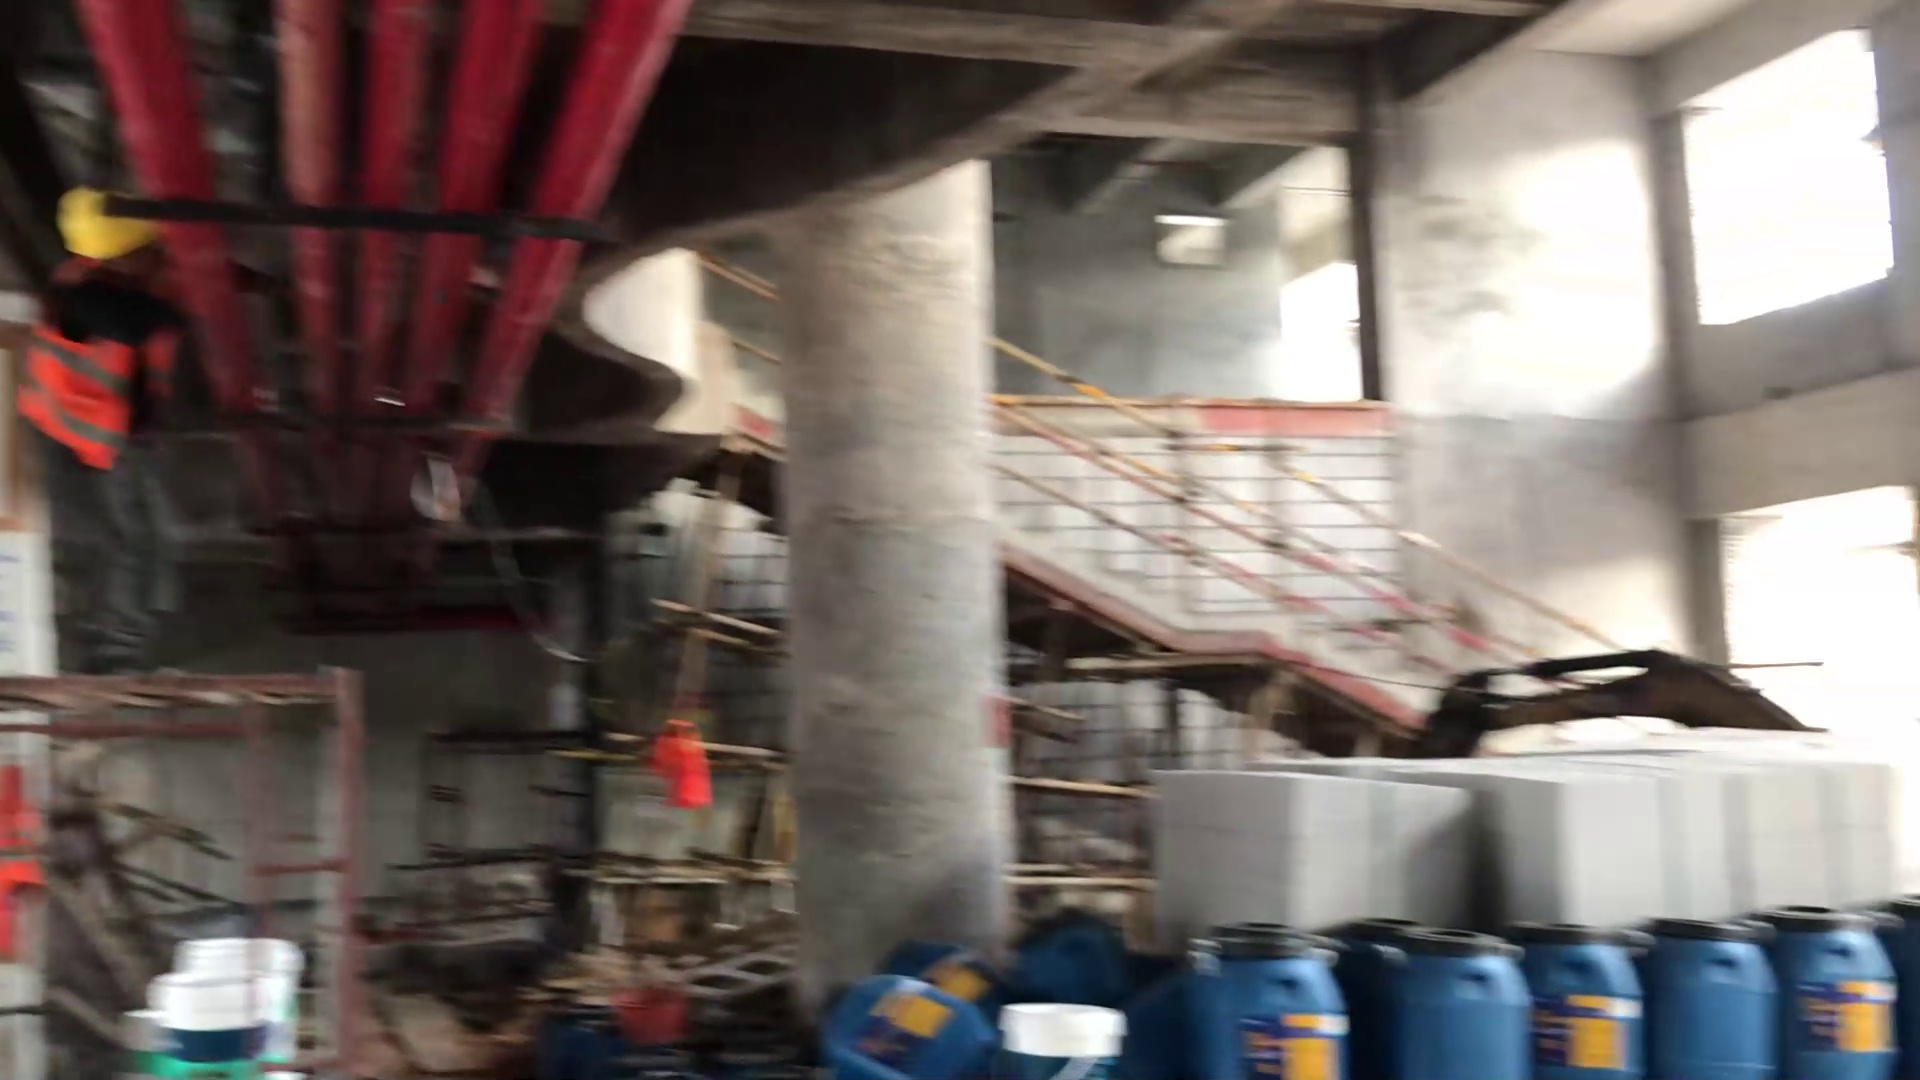helmet: (58, 193, 163, 271)
person: (23, 190, 195, 567)
vest: (28, 308, 177, 475)
